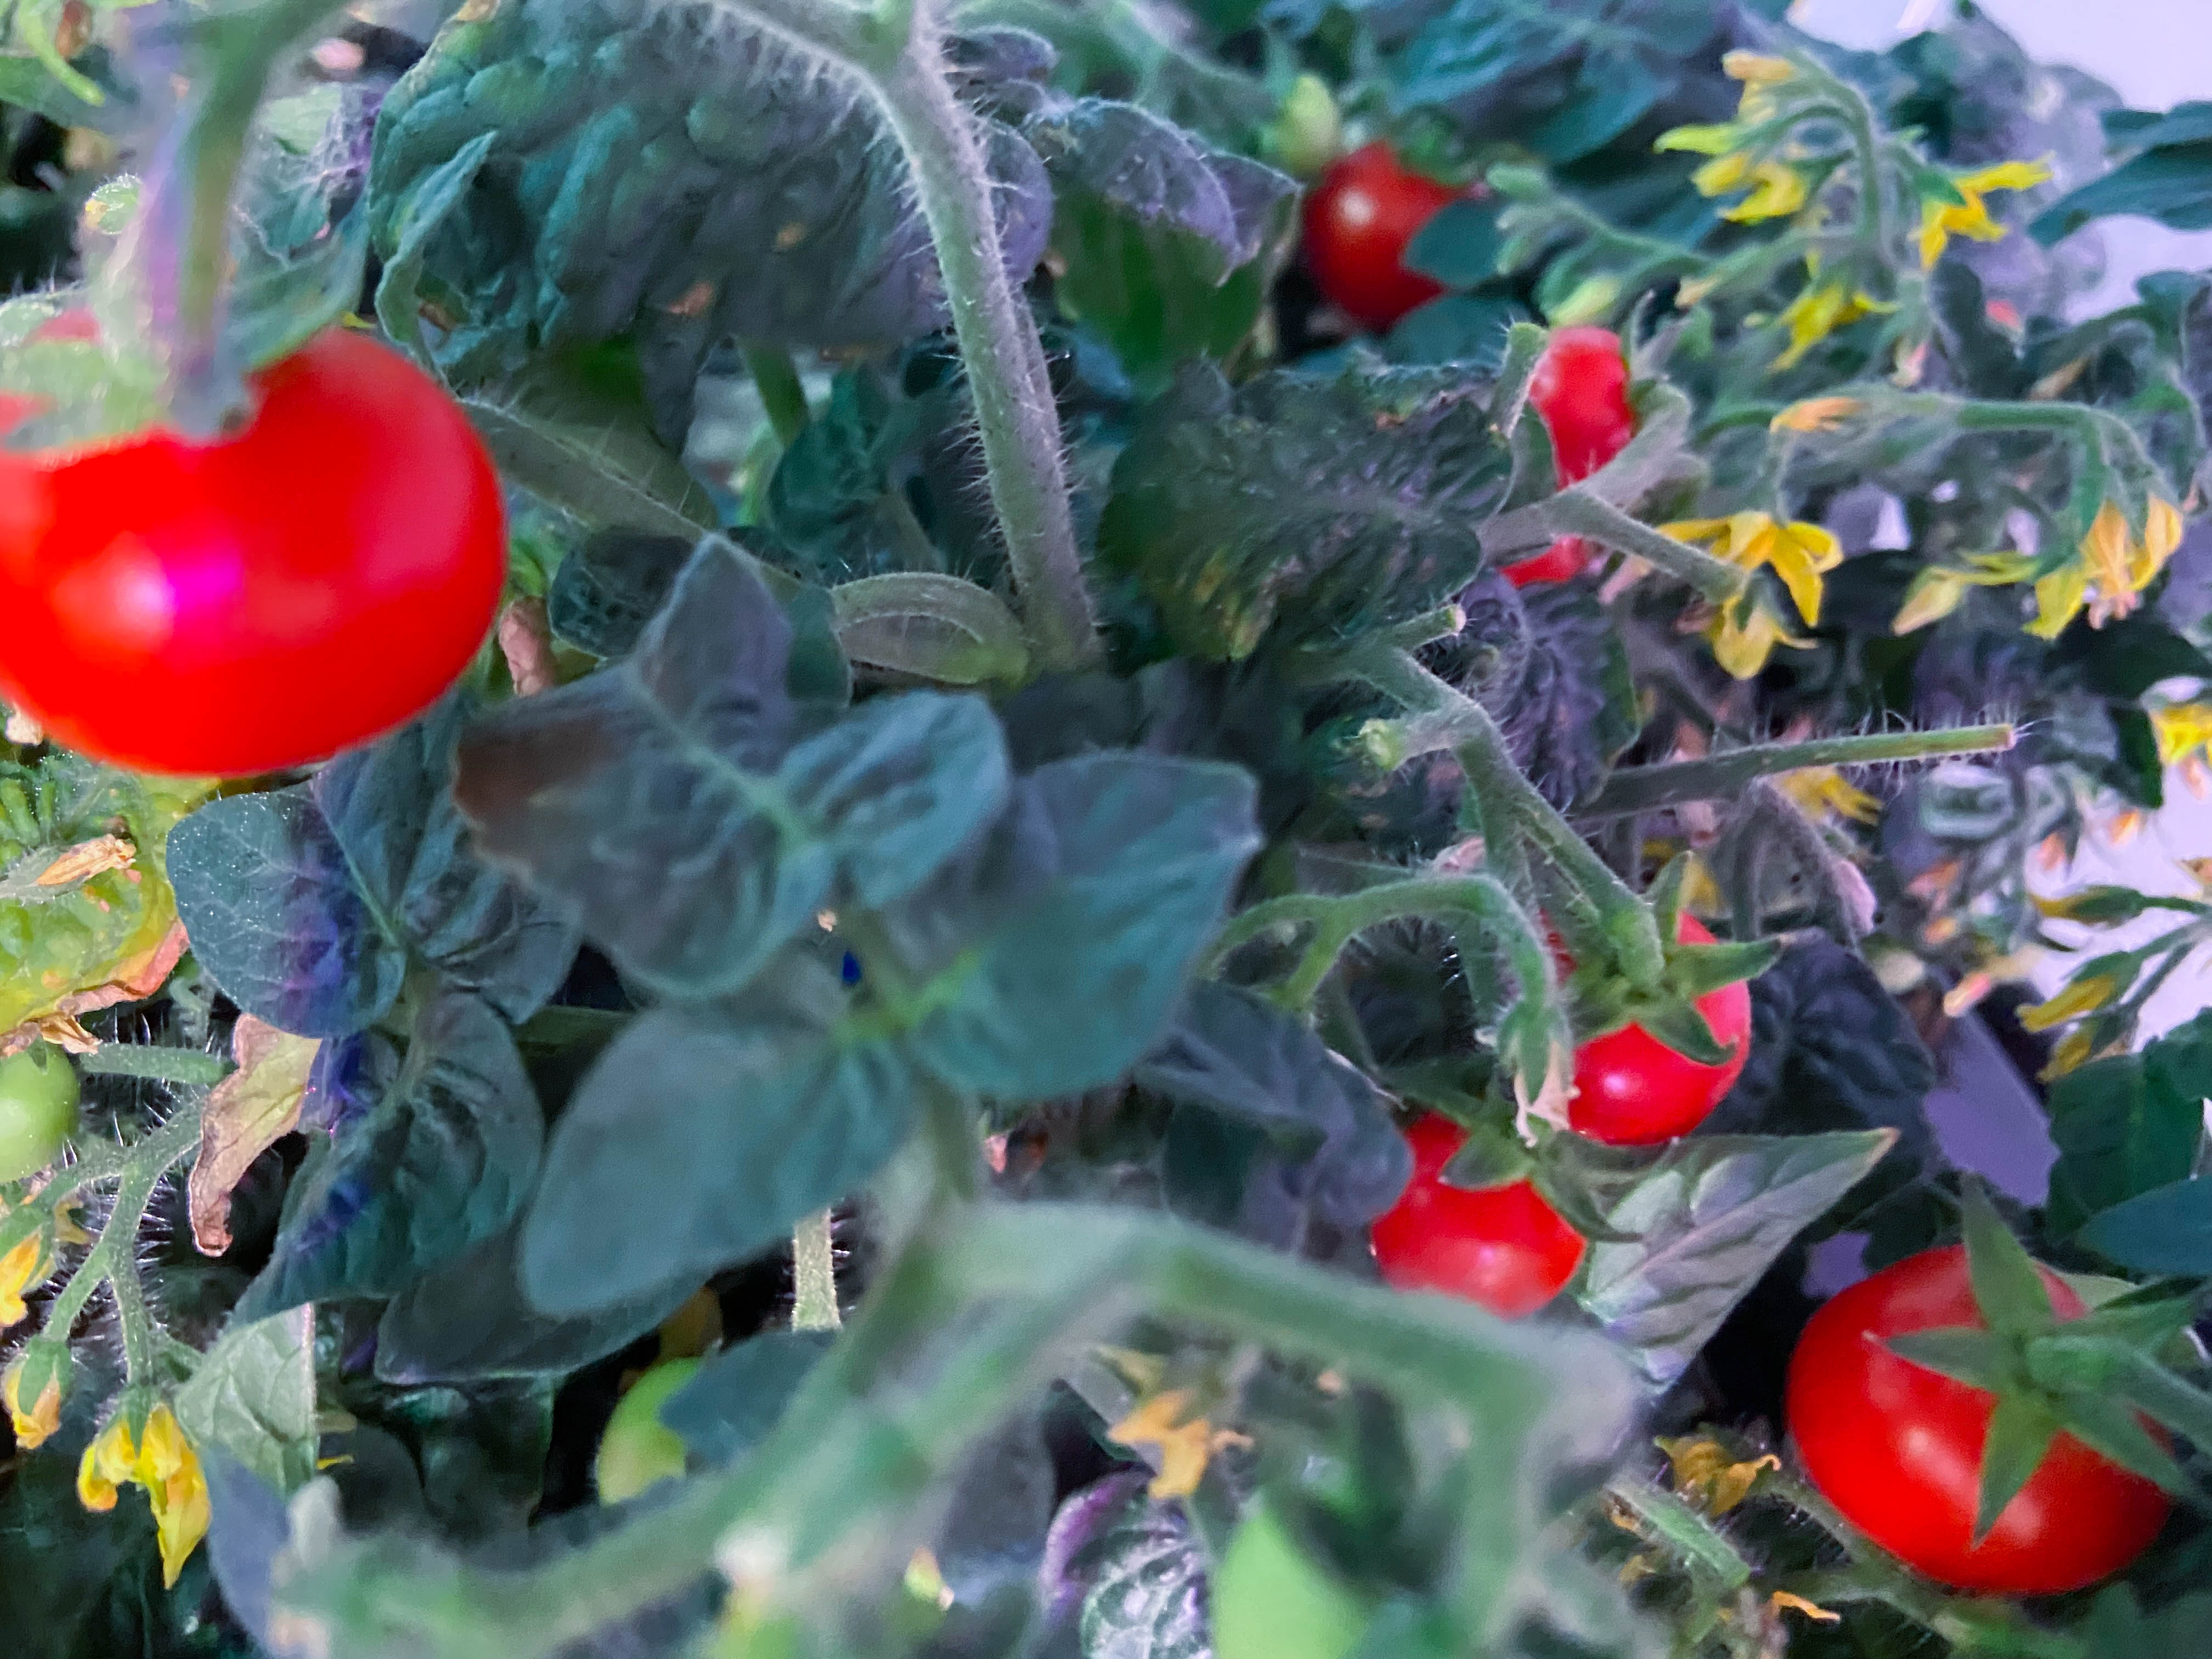green: (592, 1354, 721, 1520), (0, 1021, 82, 1188)
red: (0, 298, 502, 784), (1784, 1239, 2181, 1596), (1512, 903, 1754, 1145), (1359, 1112, 1599, 1331), (1303, 141, 1489, 321), (1505, 319, 1656, 491)
